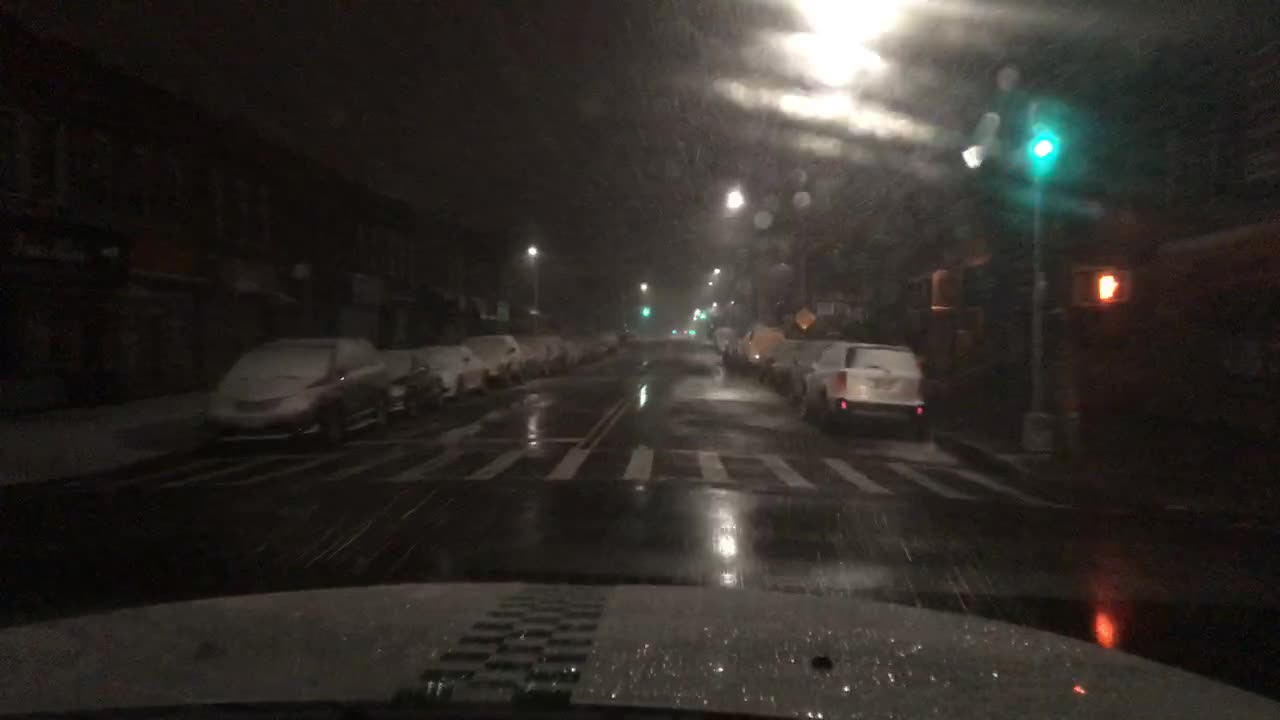car: (212, 336, 390, 444), (803, 340, 928, 436), (380, 345, 446, 420), (431, 341, 496, 399), (725, 326, 794, 380)
traffic light: (1023, 111, 1072, 196)
